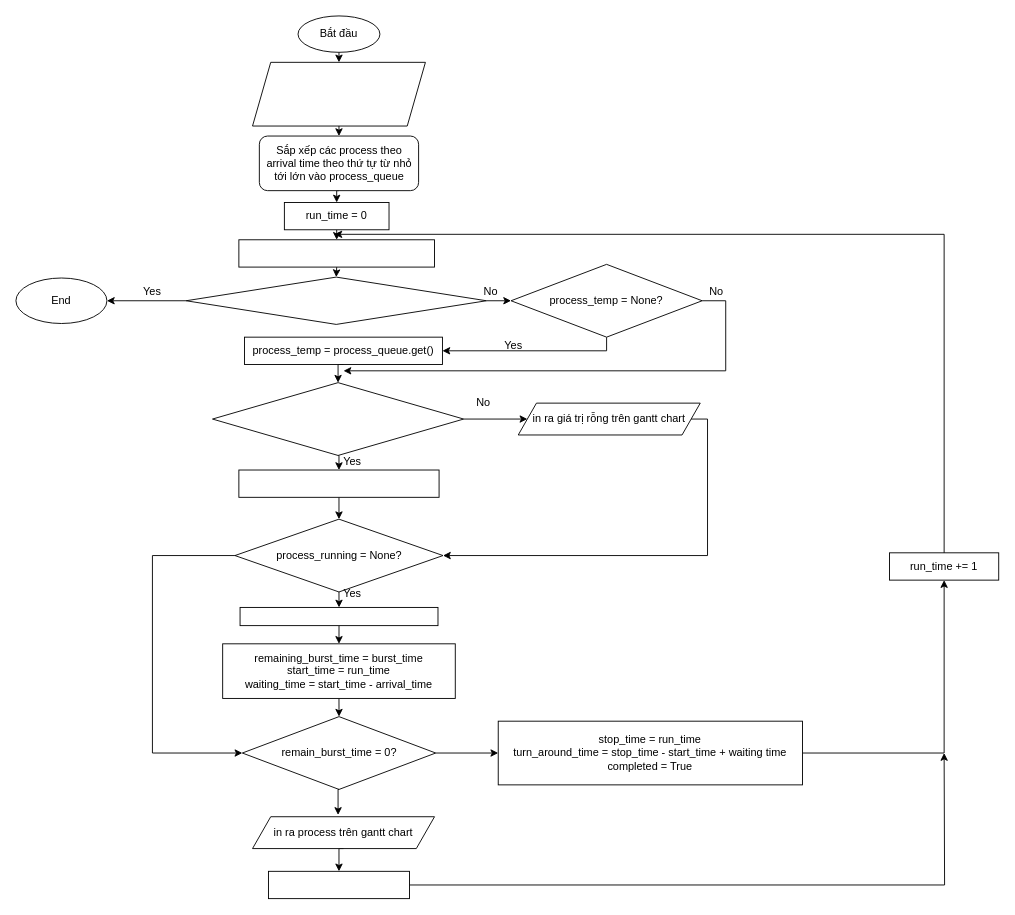
The diagram is 1015 pixels wide and 915 high, and some of its shapes have lost their labels. The centre of each missing label's shape, as x and y in pixels:
"Input: List các process với arrival_time và burst_time" belongs at point 338,93.
"num_process = 0 and process_running = None?" belongs at point 335,300.
"num_process = process_queue.qsize()" belongs at point 336,253.
"process_running = ready_queue.get()" belongs at point 338,616.
"ready_queue.append(temp_process)" belongs at point 338,483.
"remain_burst_time -= 1" belongs at point 339,884.
"run_time = temp_process.arrival_time ?" belongs at point 338,418.
